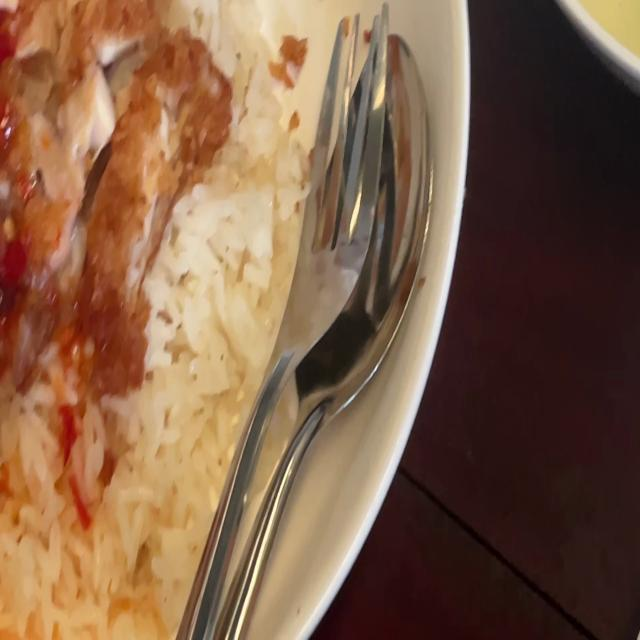chicken_rice: (0, 0, 309, 636)
fried_chicken: (0, 0, 231, 387)
